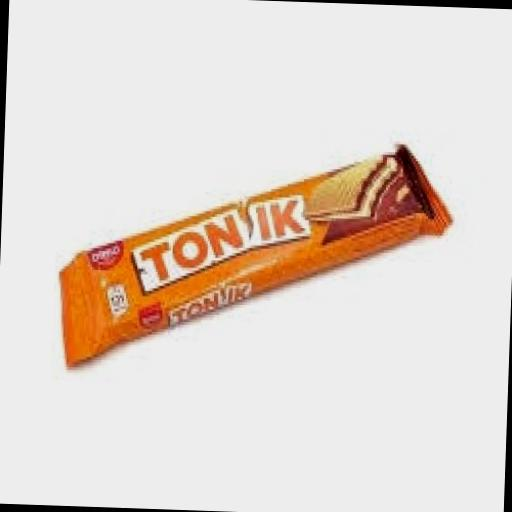tonik: (38, 145, 466, 398)
